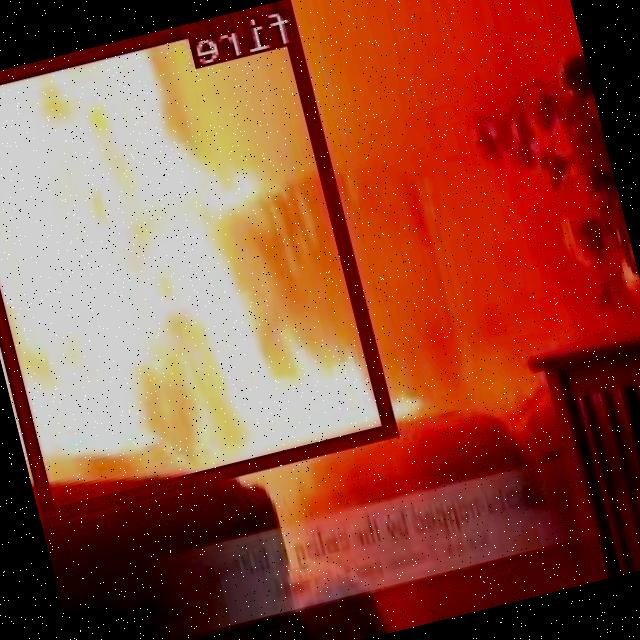fire: (0, 0, 397, 517)
